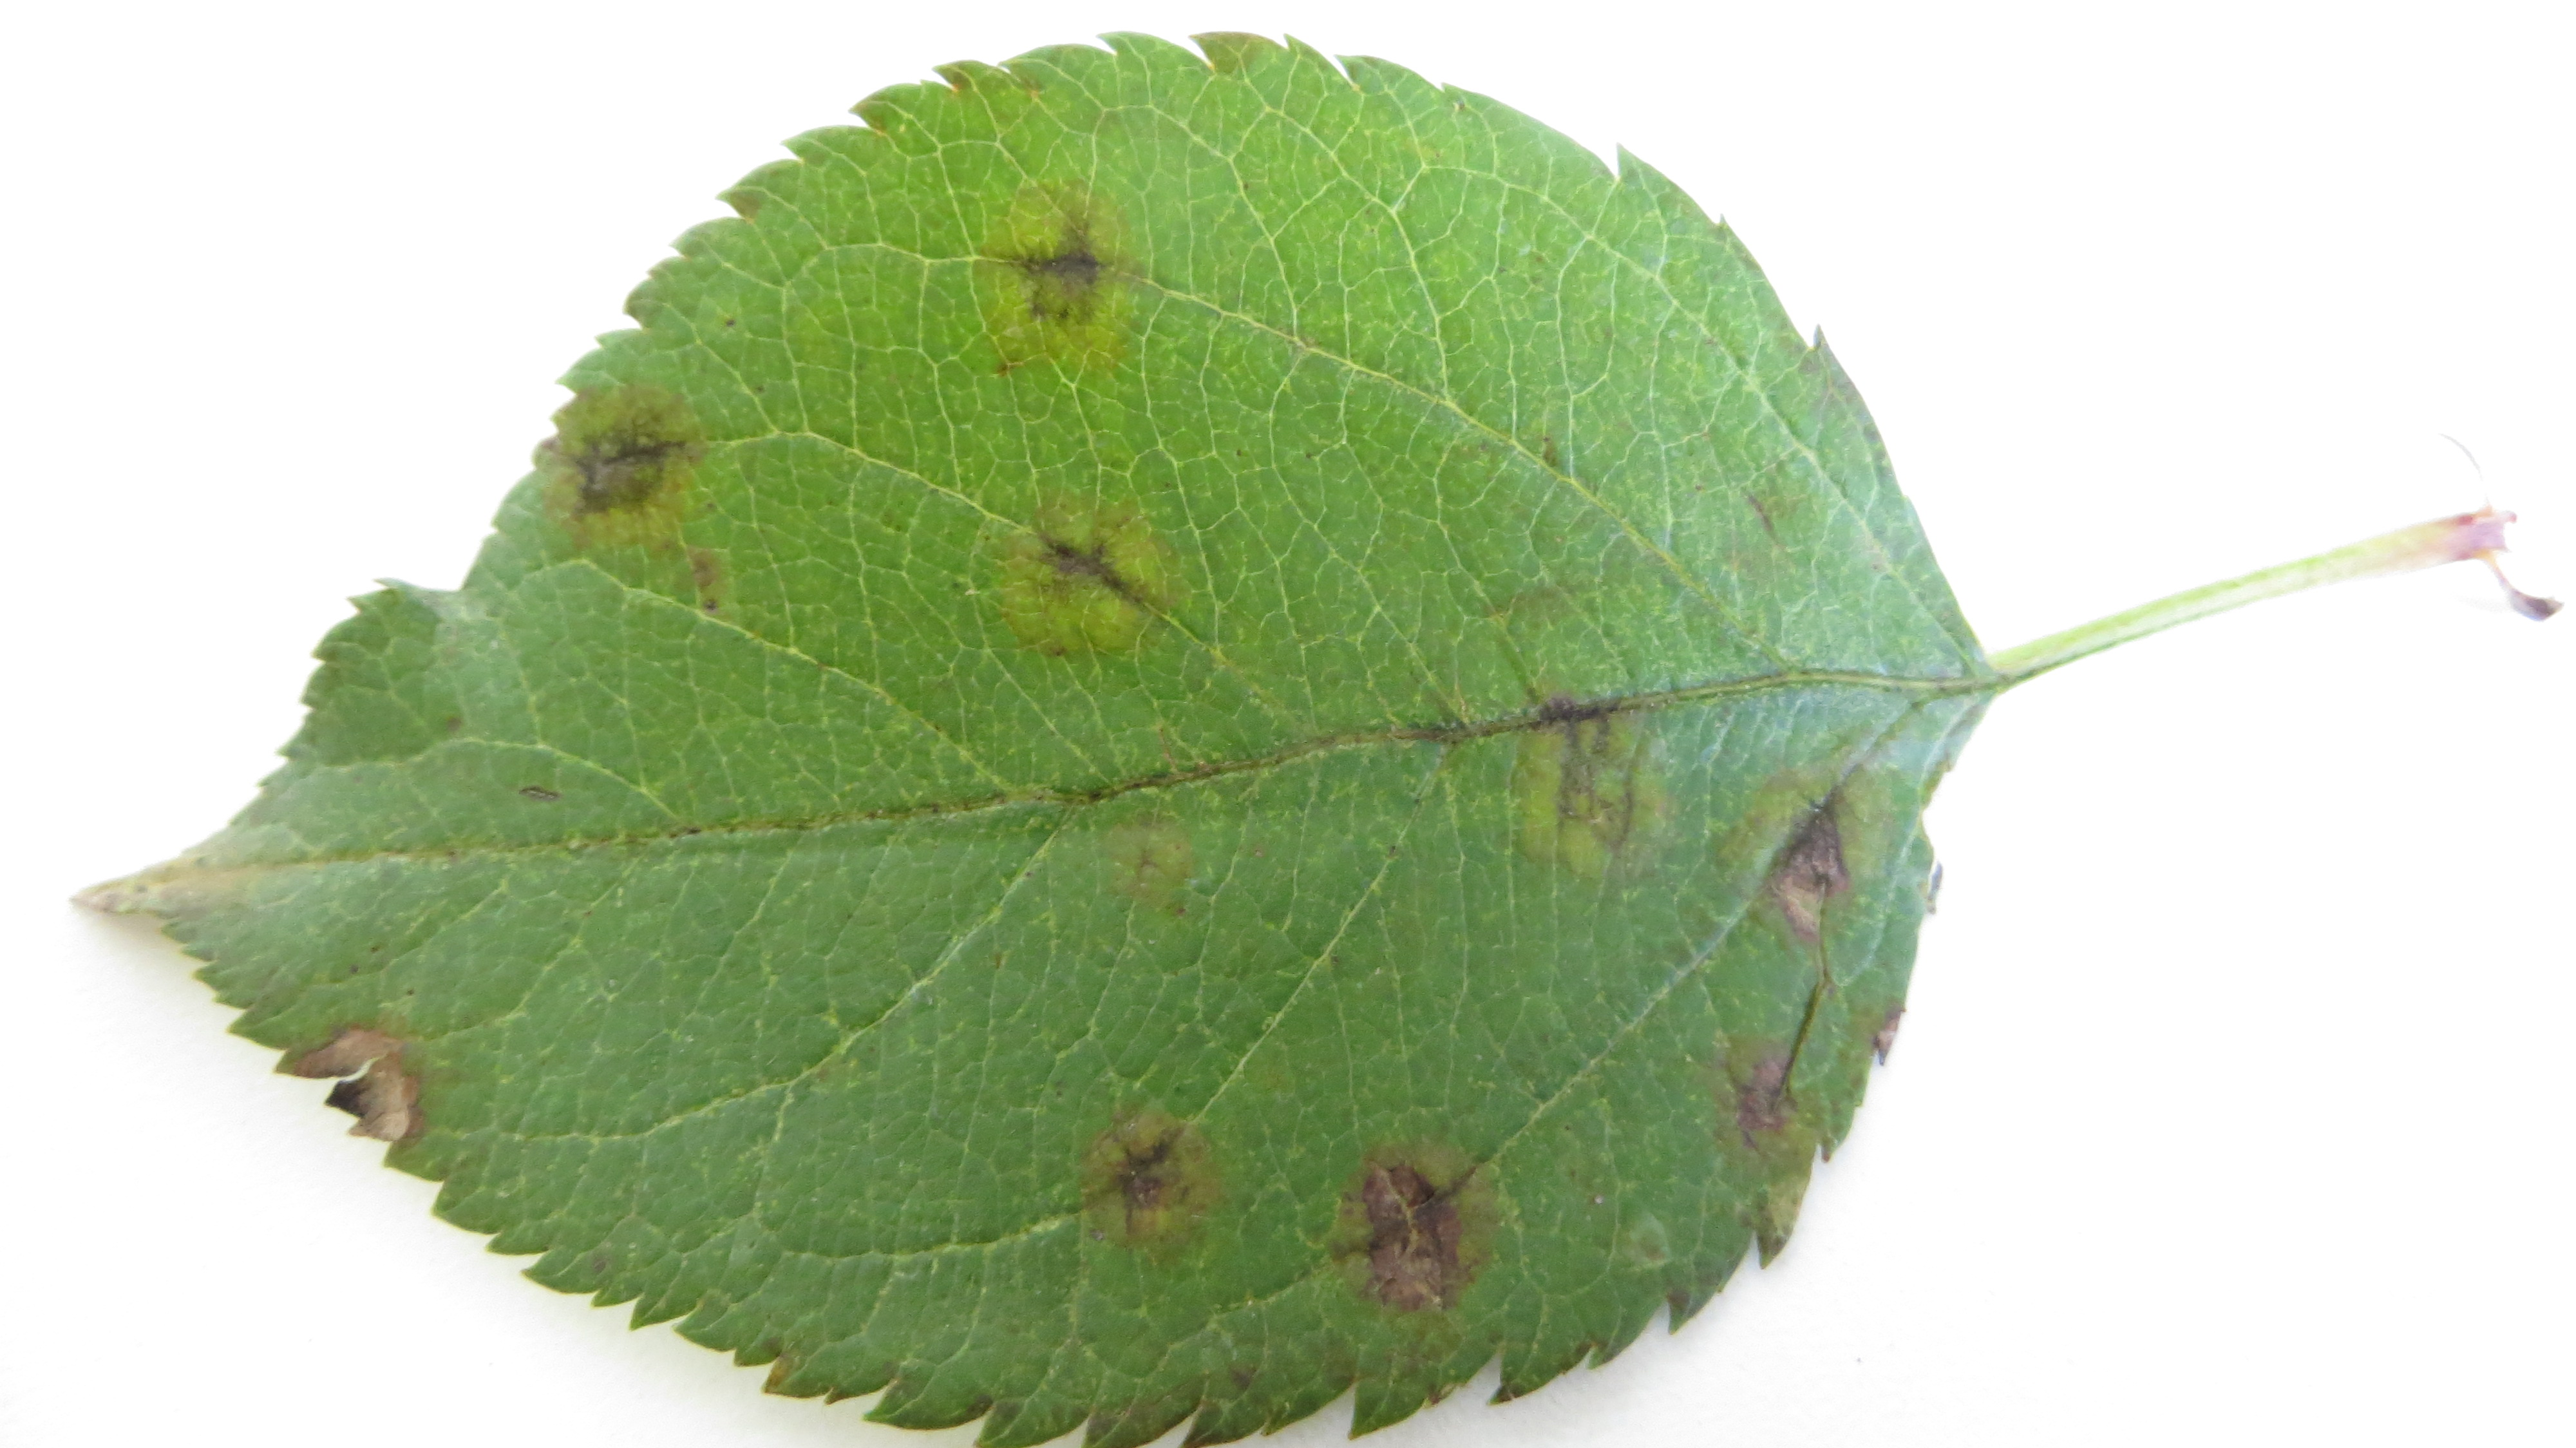sarna: (1316, 1119, 1518, 1317), (964, 168, 1152, 381), (1518, 666, 1686, 897), (987, 483, 1177, 674), (1729, 738, 1888, 949), (533, 372, 720, 549), (283, 1014, 456, 1158), (1074, 1089, 1224, 1253), (1688, 1018, 1826, 1179), (1111, 802, 1223, 922)
